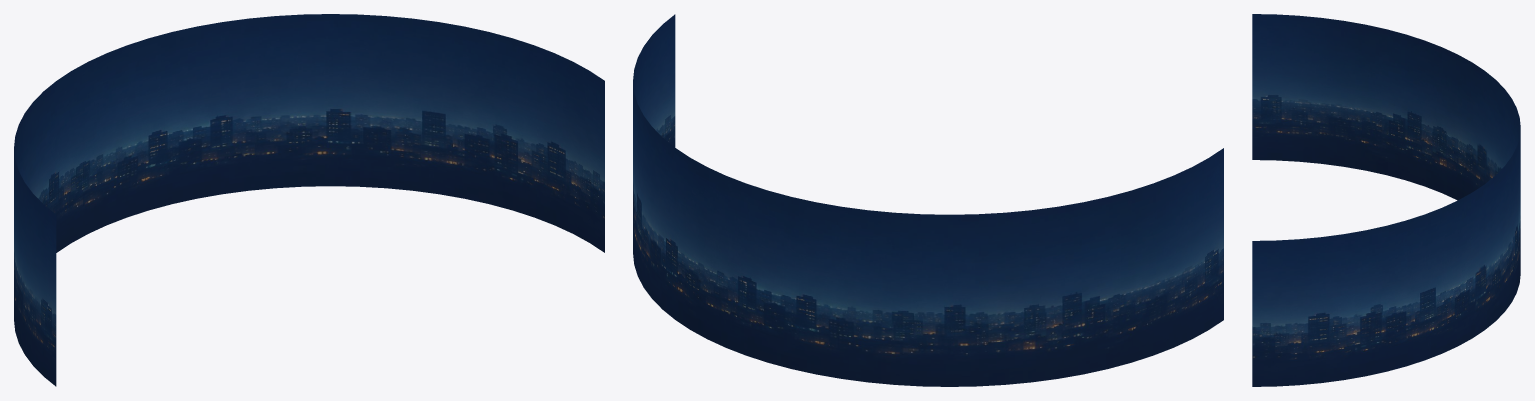
The picture shows the model from 3 angles, left to right: view 1: azimuth 30°, elevation 25°; view 2: azimuth 150°, elevation 25°; view 3: azimuth 270°, elevation 25°; orthographic projection. The views are drawn at different scales.
Visible parts, largest first — view 1: city_backdrop; view 2: city_backdrop; view 3: city_backdrop.
Boxes of the visible parts, bbox=[...] form: city_backdrop: bbox=[14, 14, 604, 386]; city_backdrop: bbox=[633, 14, 1223, 386]; city_backdrop: bbox=[1252, 14, 1520, 386].
Bounding box in the file's own units: 20 × 6 × 10.
Materials: 1 (1 with a texture image).
